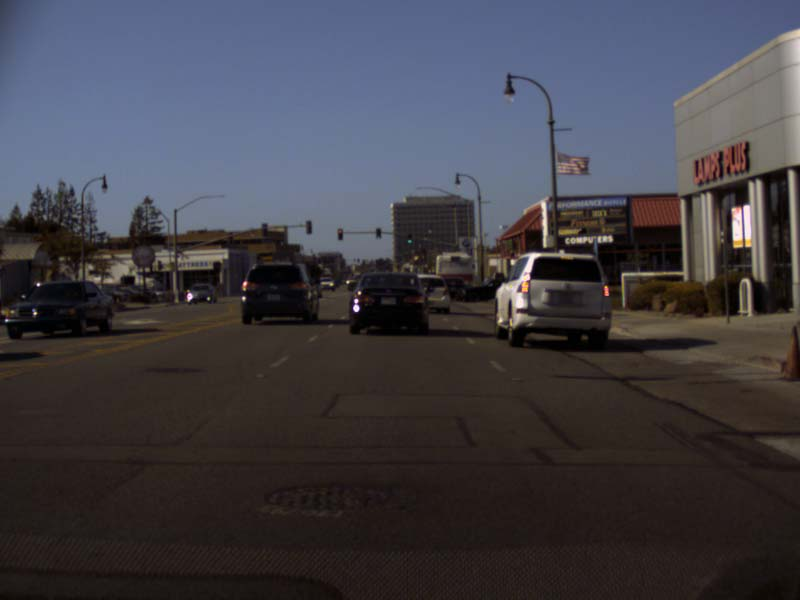Green: (376, 227, 381, 238), (406, 233, 411, 244)
Red: (338, 227, 341, 240)
